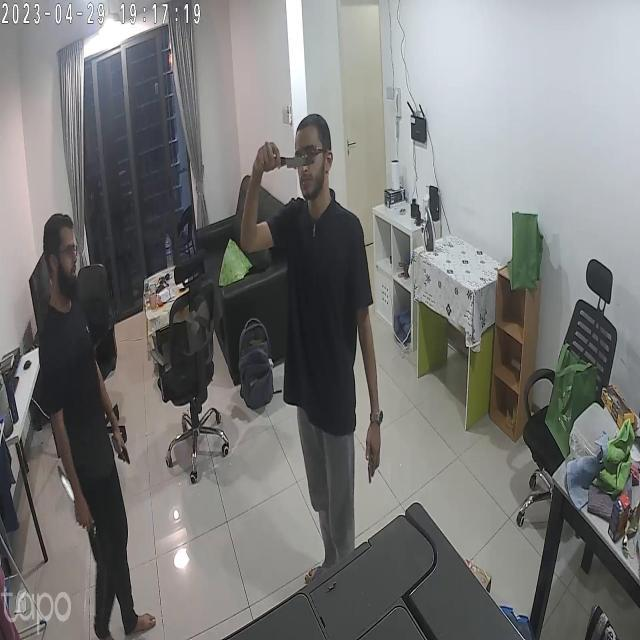Knife: (261, 147, 316, 179)
